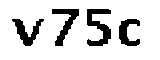5: (83, 6, 113, 49)
7: (48, 5, 78, 49)
c: (118, 17, 143, 49)
v: (8, 16, 44, 48)
